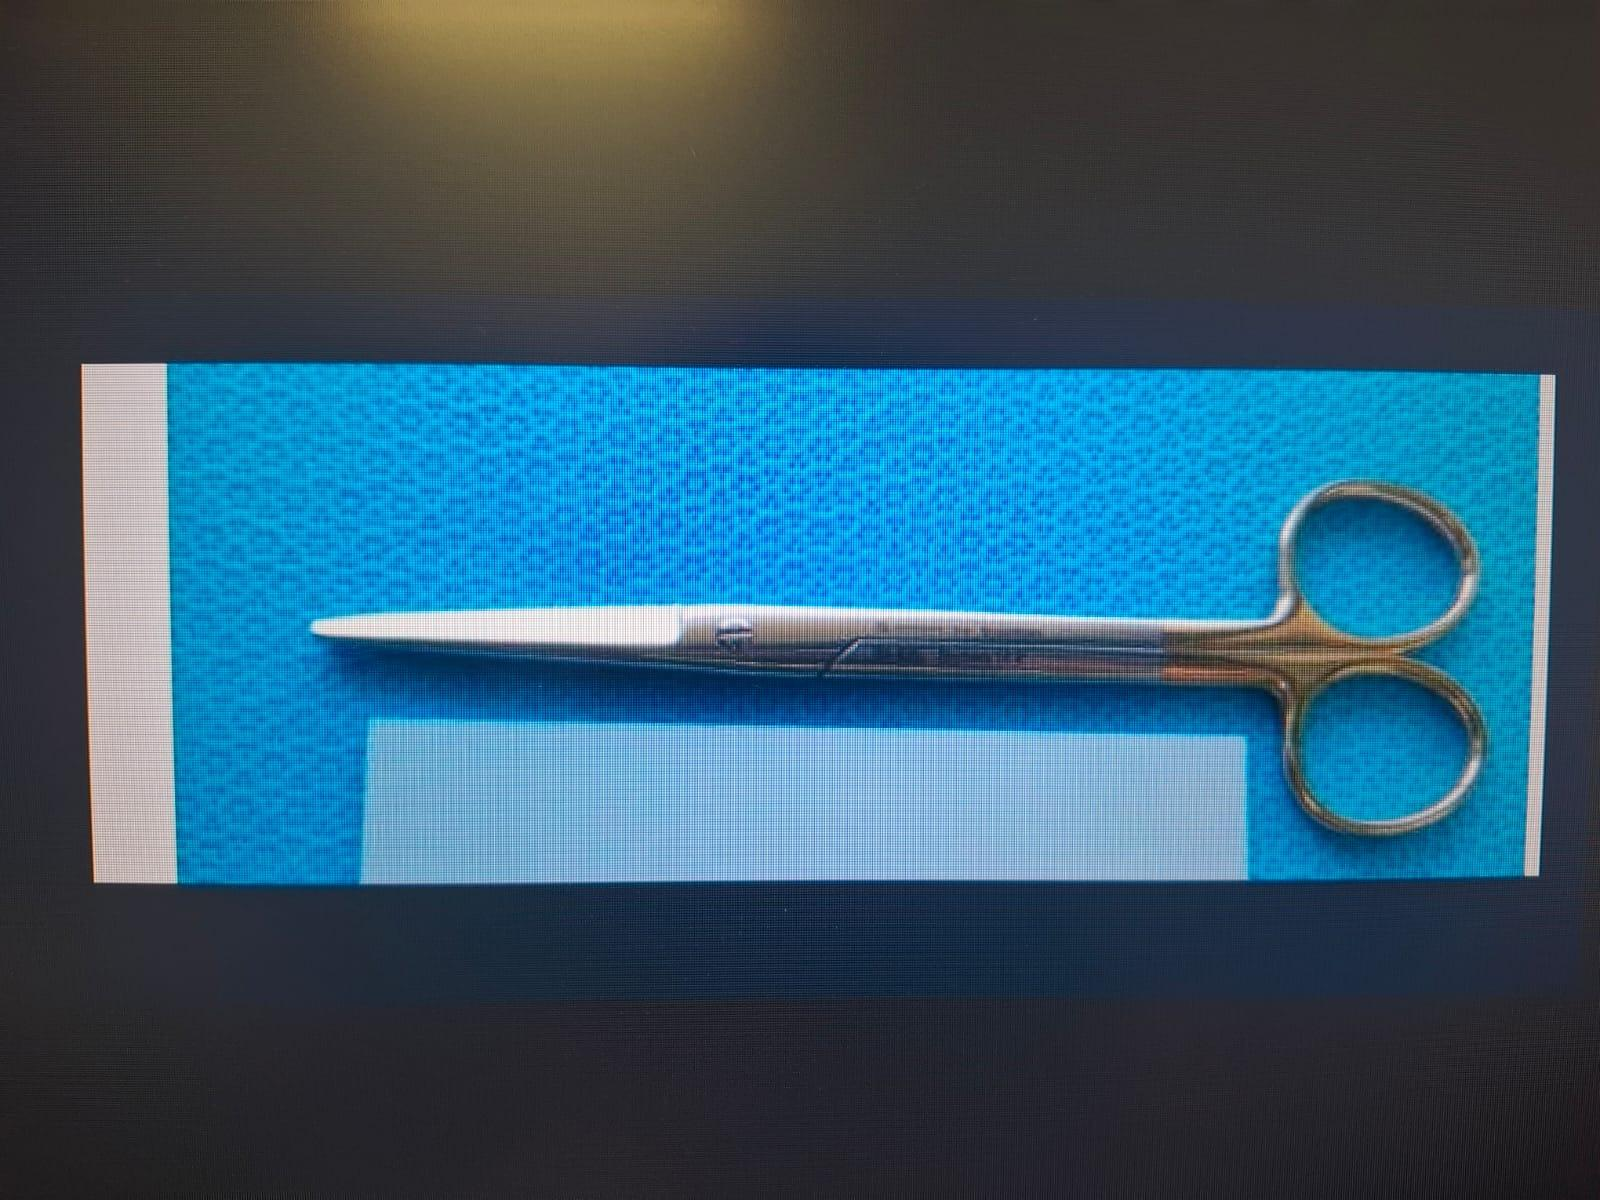Straight Mayo: (304, 470, 1490, 848)
